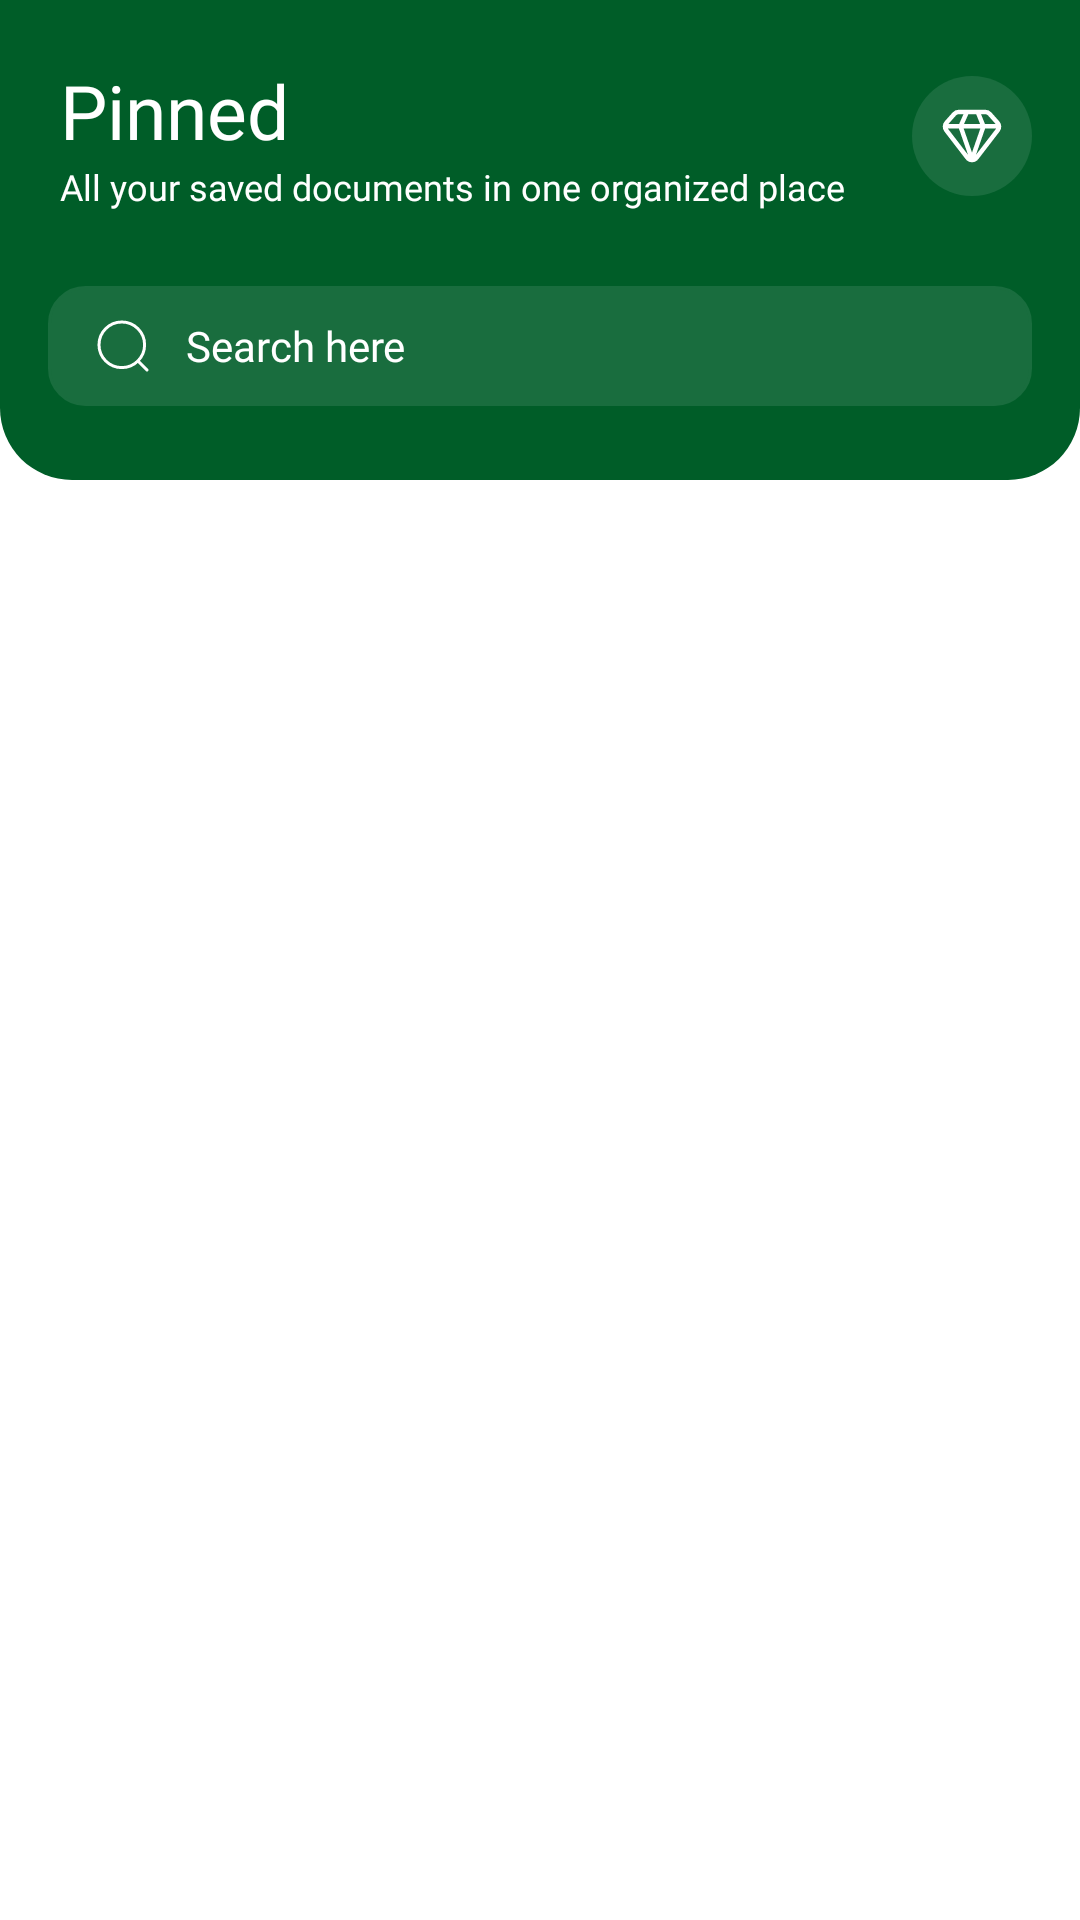

Icon bounding boxes for this 1080 × 1920 phone screenshot, format box=[x1, y1, x2, y2]:
daimond: box=[913, 76, 1031, 196]
